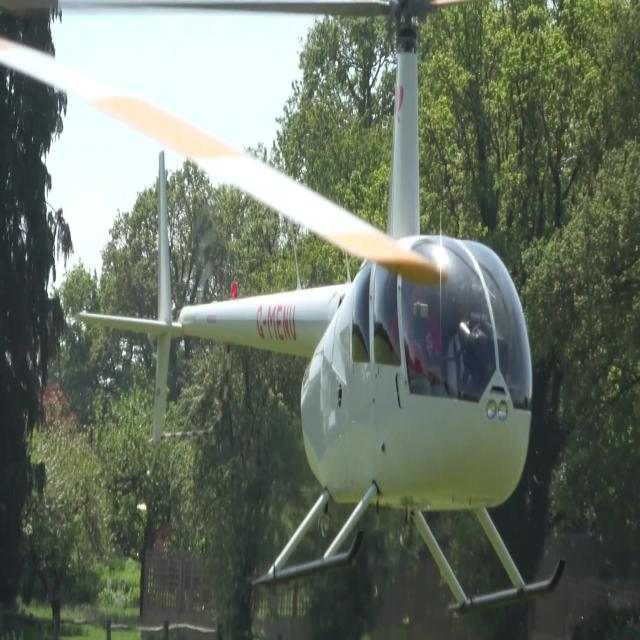CIV_HELO: (73, 28, 566, 614)
